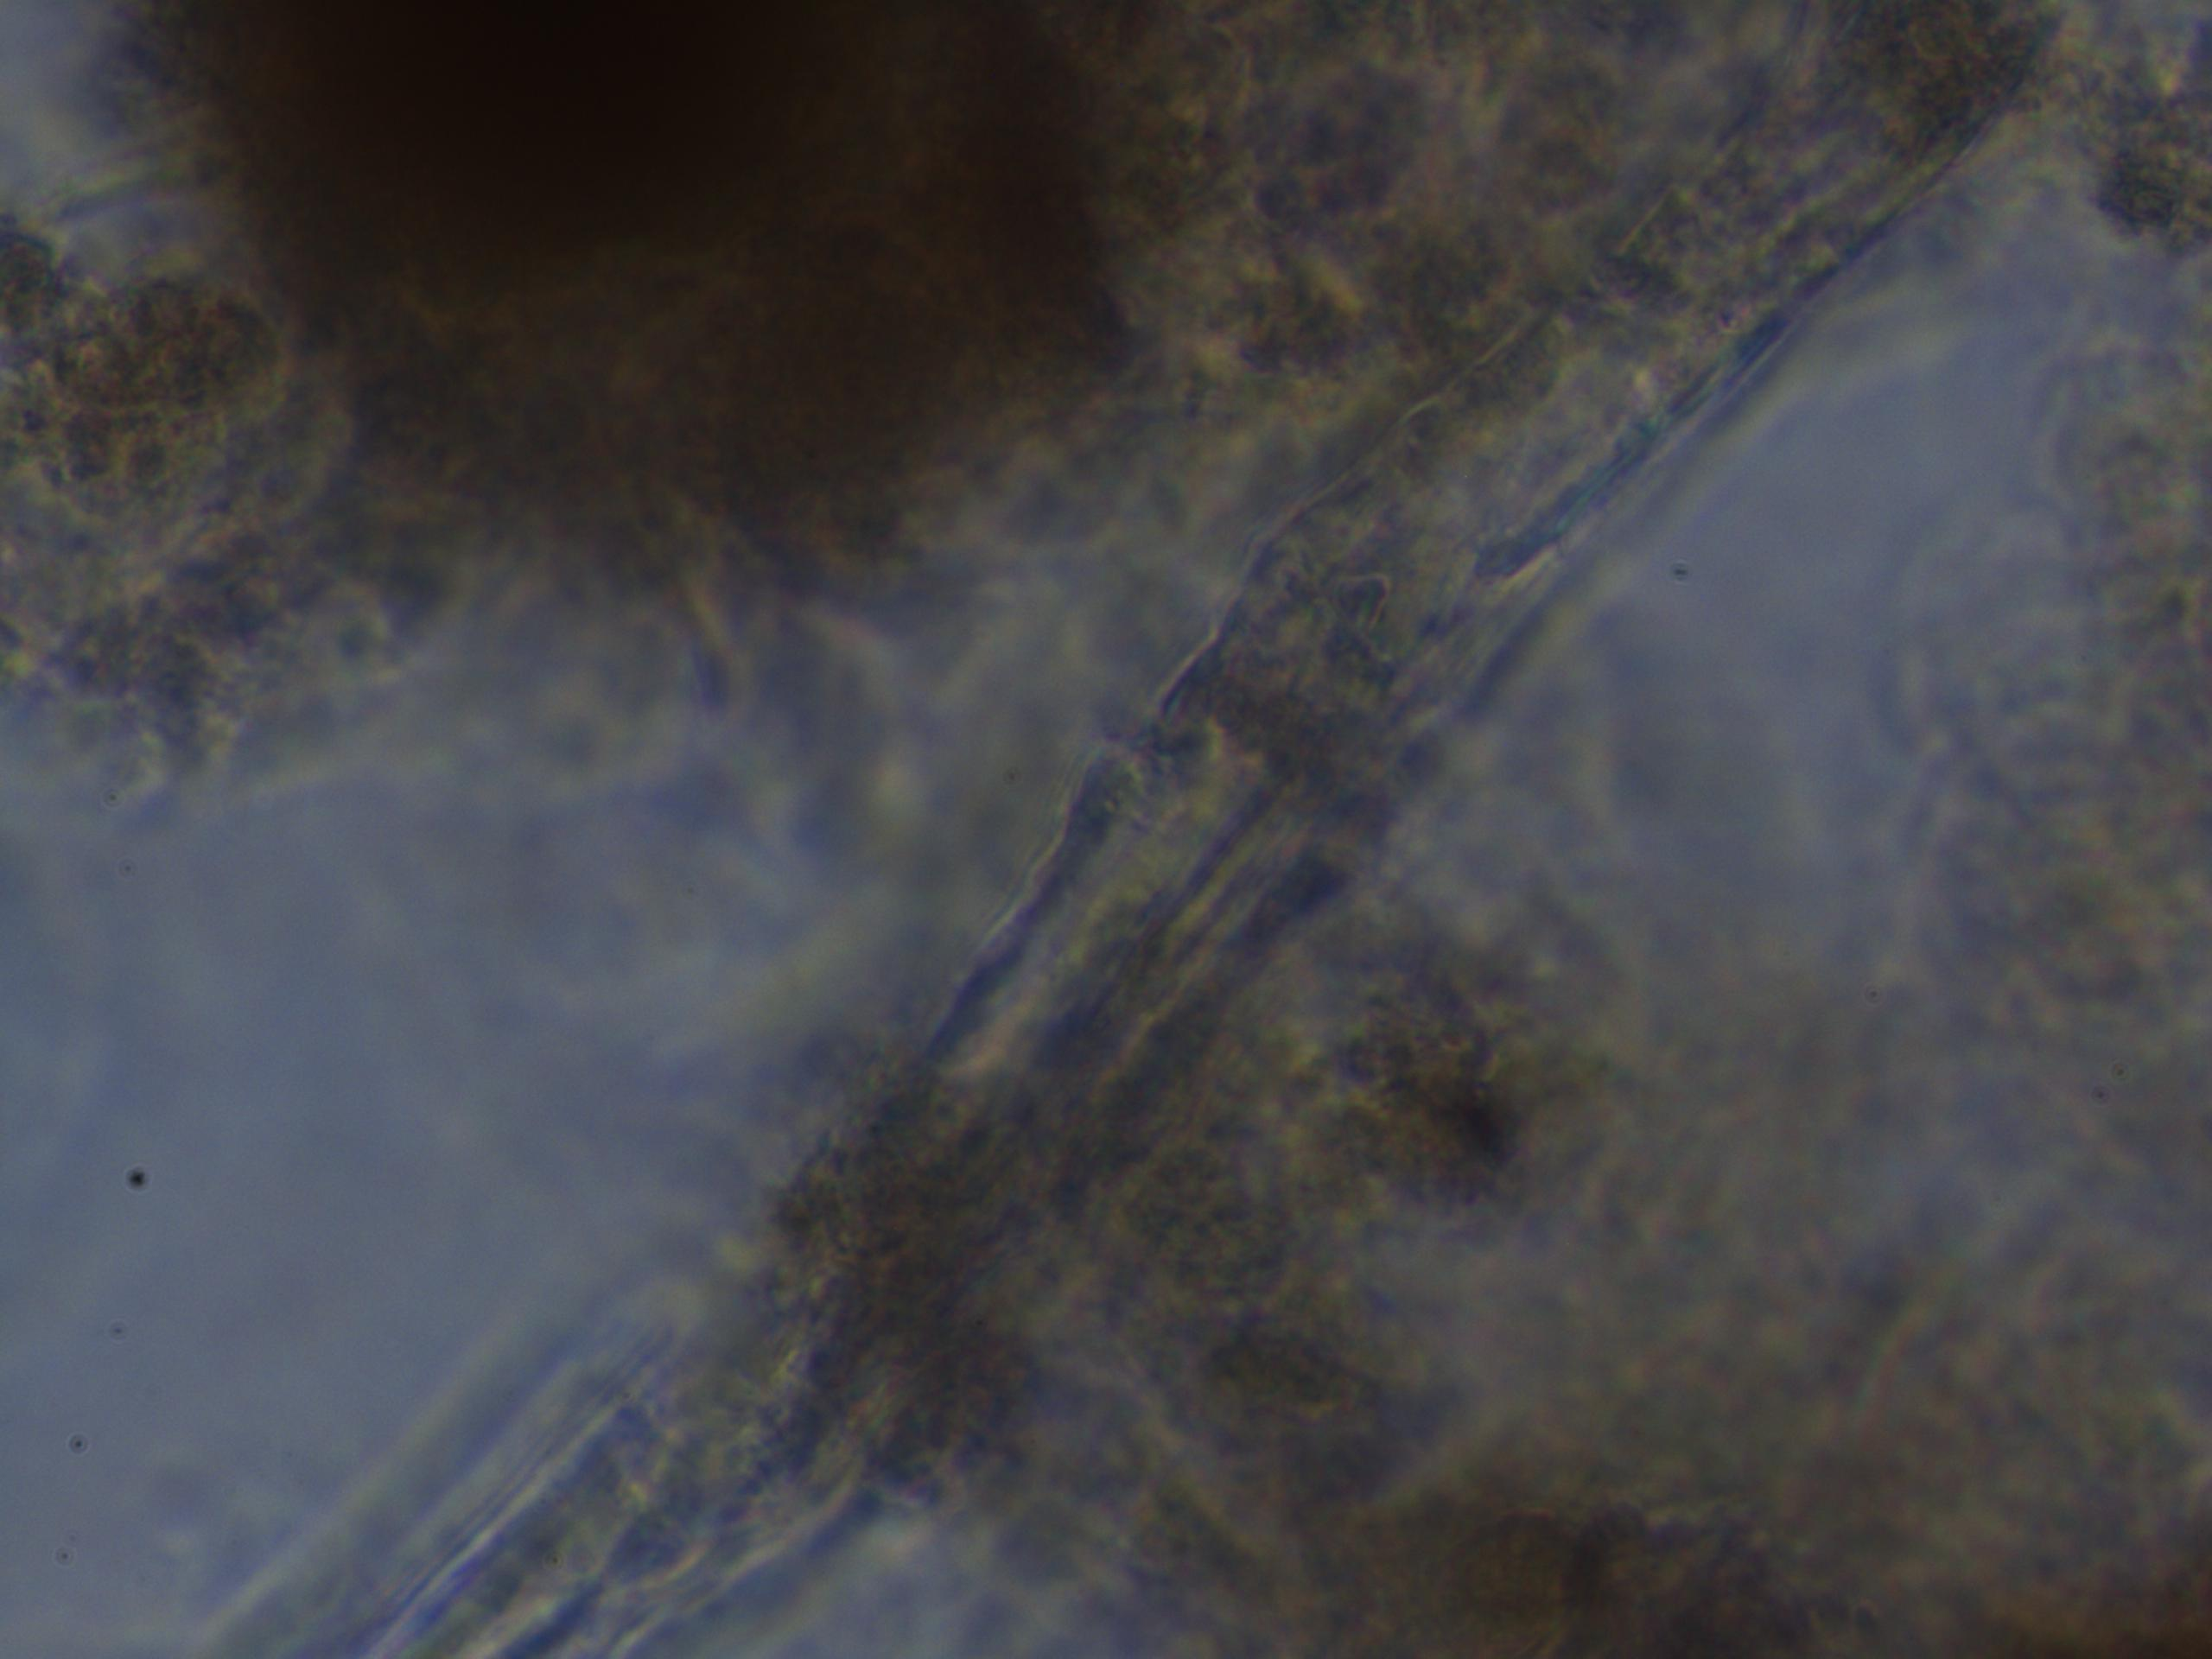spherical_floc: (136, 0, 1191, 599)
